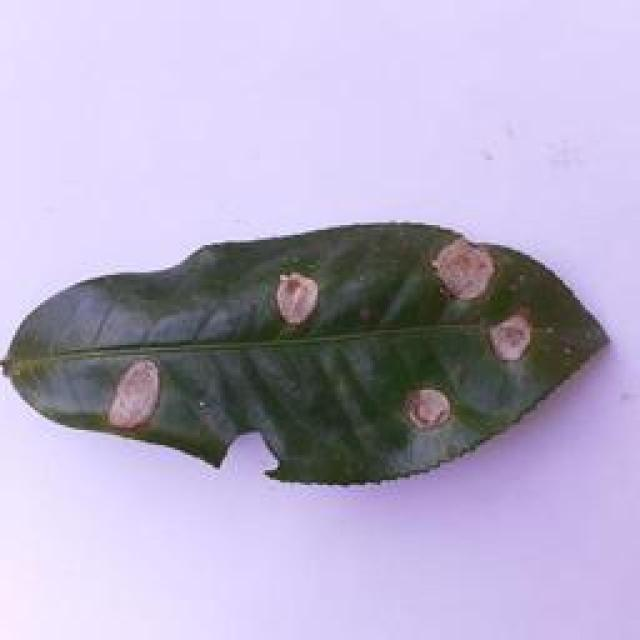Gray Blight: (7, 220, 616, 488)
